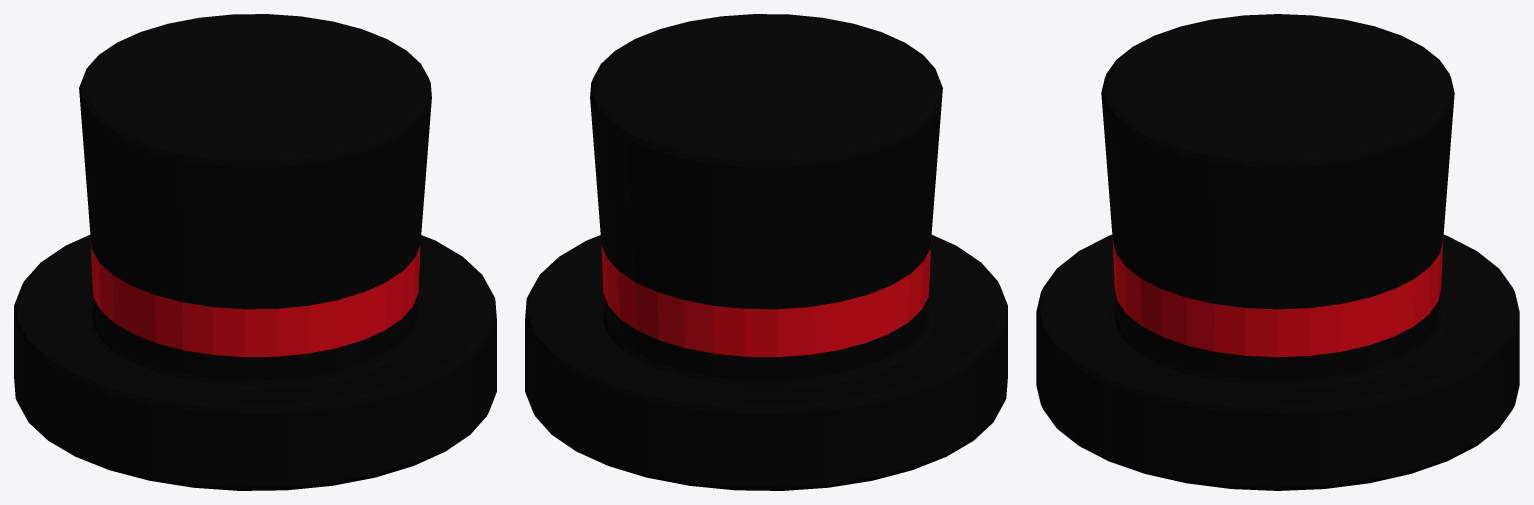
Rendered from Hat_LowPoly.fbx.
3 views of the same model, side by side, from view 1: azimuth 30°, elevation 25°; view 2: azimuth 150°, elevation 25°; view 3: azimuth 270°, elevation 25° (orthographic).
Parts seen in each view (by area): view 1: Tophat; view 2: Tophat; view 3: Tophat.
Boxes of the visible parts, x1,y1,x2,y2 form: Tophat: (14, 14, 496, 490); Tophat: (525, 14, 1007, 490); Tophat: (1036, 14, 1519, 490).
Bounding box in the file's own units: 300 × 209 × 300.
